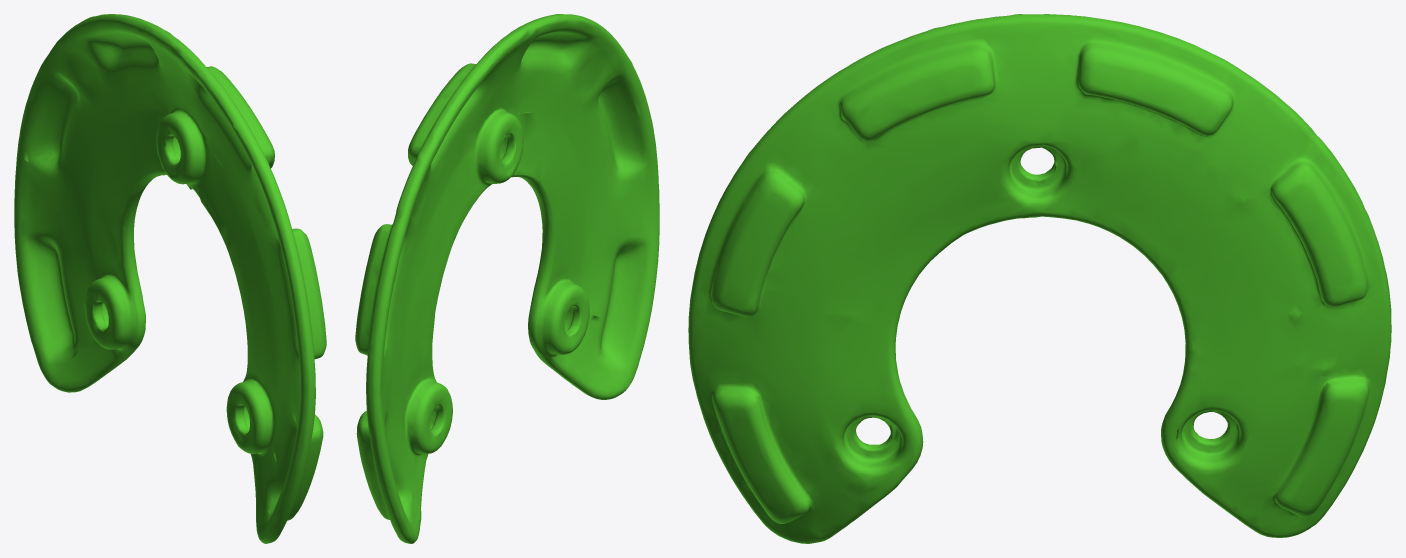
The model's file is Motor Pulley Cover Accent.glb.
3 renders of one model, left to right at view 1: azimuth 30°, elevation 25°; view 2: azimuth 150°, elevation 25°; view 3: azimuth 270°, elevation 25°, orthographic. The views are drawn at different scales.
Visible parts, largest first — view 1: Motor_Gear_Cover_Cap_001; view 2: Motor_Gear_Cover_Cap_001; view 3: Motor_Gear_Cover_Cap_001.
Boxes of the visible parts, left/top/right/bottom form: Motor_Gear_Cover_Cap_001: left=14, top=14, right=326, bottom=543; Motor_Gear_Cover_Cap_001: left=355, top=14, right=659, bottom=543; Motor_Gear_Cover_Cap_001: left=688, top=14, right=1391, bottom=543.
Bounding box in the file's own units: 7.31 × 60.29 × 72.85.
